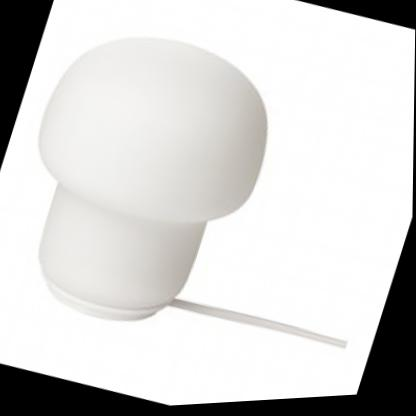Lamp: (0, 0, 334, 385)
